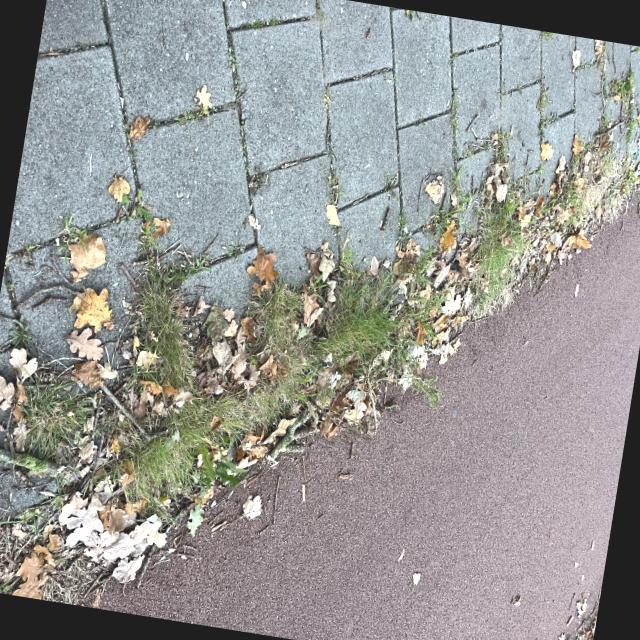pavement: (317, 17, 640, 640), (125, 145, 260, 634)
weed: (117, 25, 524, 519)
